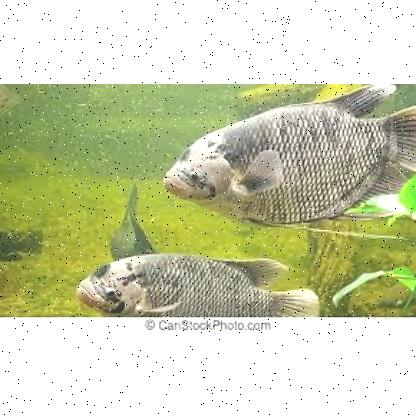gurame: (163, 87, 415, 229), (74, 254, 318, 316)
